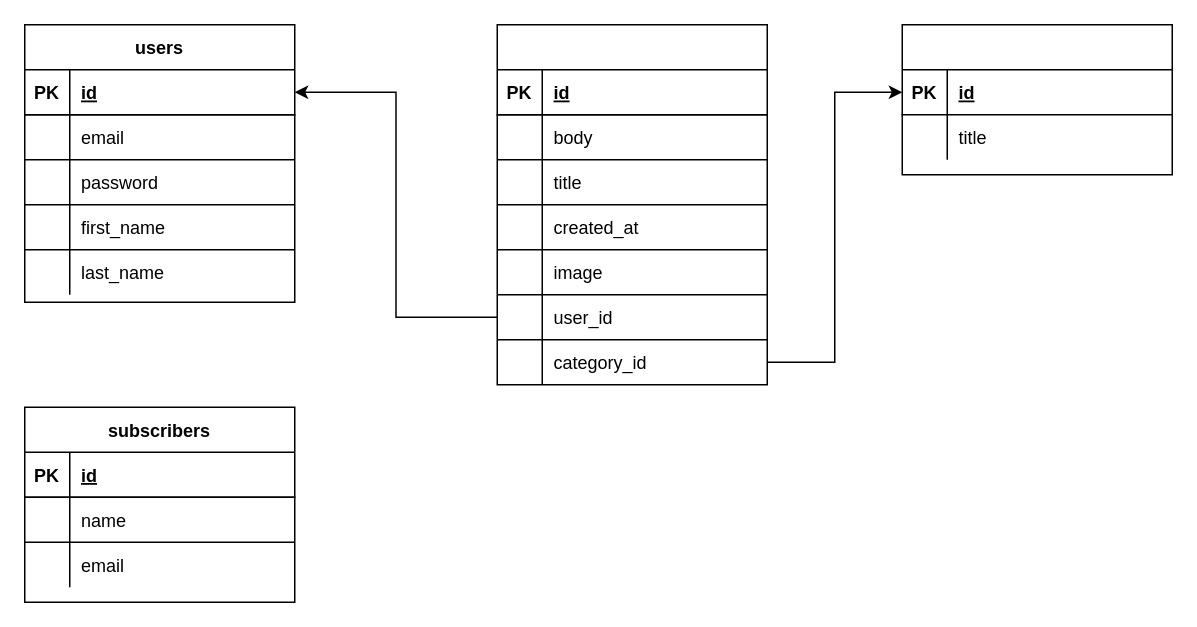
Some shapes in this 1197 by 627 pixel diagram are drawn without their labels. Here are the shapes that lost their labels. From the top down, the box of each, then its label:
(901, 23, 1172, 175): categories
(496, 23, 767, 385): posts
